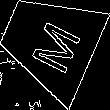M_NW: (19, 11, 79, 73)
